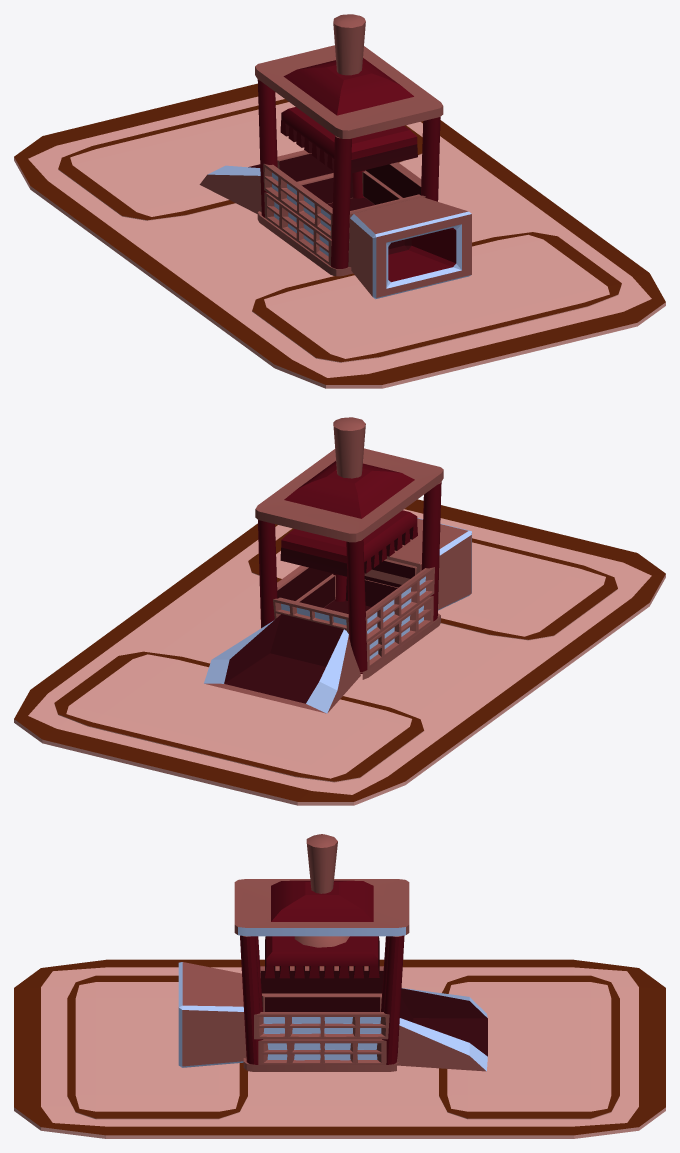
Rendered from Rubbish_Pres_.fbx.
The picture shows the model from 3 angles, top to bottom: view 1: azimuth 30°, elevation 25°; view 2: azimuth 150°, elevation 25°; view 3: azimuth 270°, elevation 25°; orthographic projection. The views are drawn at different scales.
Visible parts, largest first — view 1: Cube, Cube.007, Cube.001, Cube.003, Cube.010; view 2: Cube, Cube.007, Cube.003, Cube.001, Cube.010; view 3: Cube, Cube.007, Cube.003, Cube.001, Cube.010.
Boxes of the visible parts, box(x1,y1,x2,y2) form: Cube: box(14, 83, 665, 388); Cube.007: box(199, 45, 471, 299); Cube.001: box(252, 232, 621, 362); Cube.003: box(58, 99, 422, 220); Cube.010: box(280, 14, 417, 173); Cube: box(14, 499, 665, 805); Cube.007: box(204, 448, 471, 713); Cube.003: box(54, 651, 424, 782); Cube.001: box(248, 528, 617, 640); Cube.010: box(280, 417, 417, 576); Cube: box(14, 959, 665, 1138); Cube.007: box(178, 879, 487, 1071); Cube.003: box(439, 975, 619, 1119); Cube.001: box(67, 975, 247, 1119); Cube.010: box(265, 834, 379, 978).
Size of the model in its own units: 5.7 by 3.23 by 8.94.
